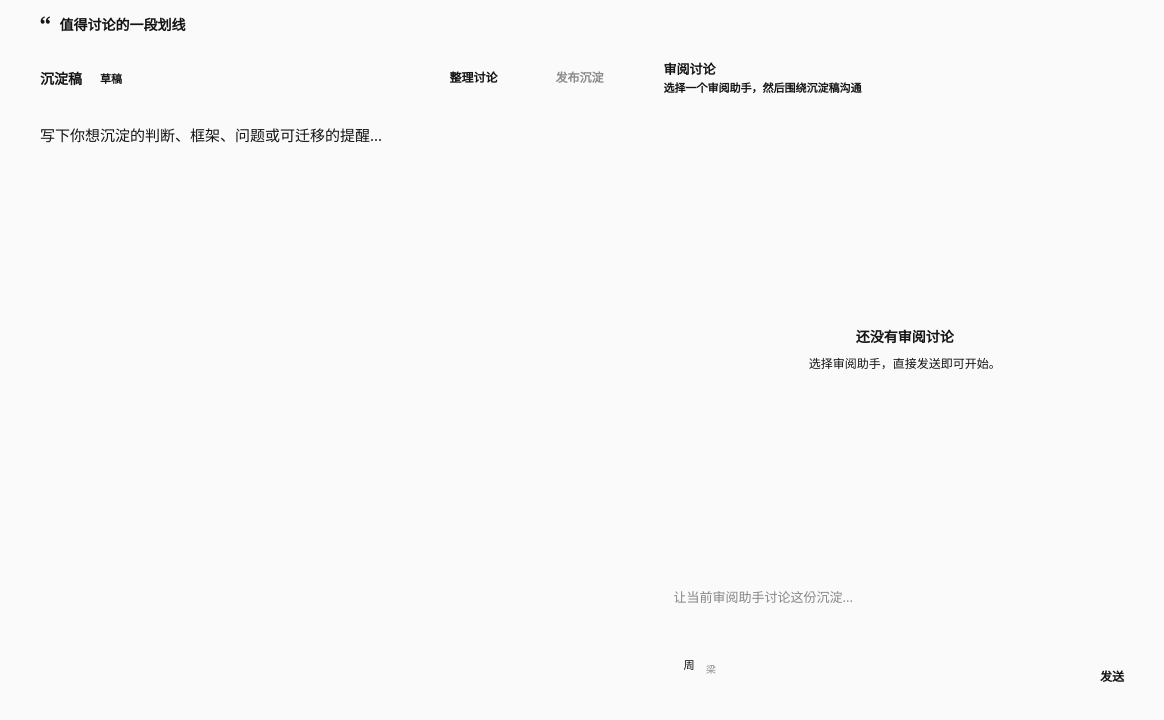
Test: annotation distillation UI › renders and saves streamed structured review items
Check: the text box with placeholder "让当前审阅助手讨论这份沉淀..." is shown, box [674,588,1136,628]
Click the button "发送": (1102, 677) [1068,662,1136,692]
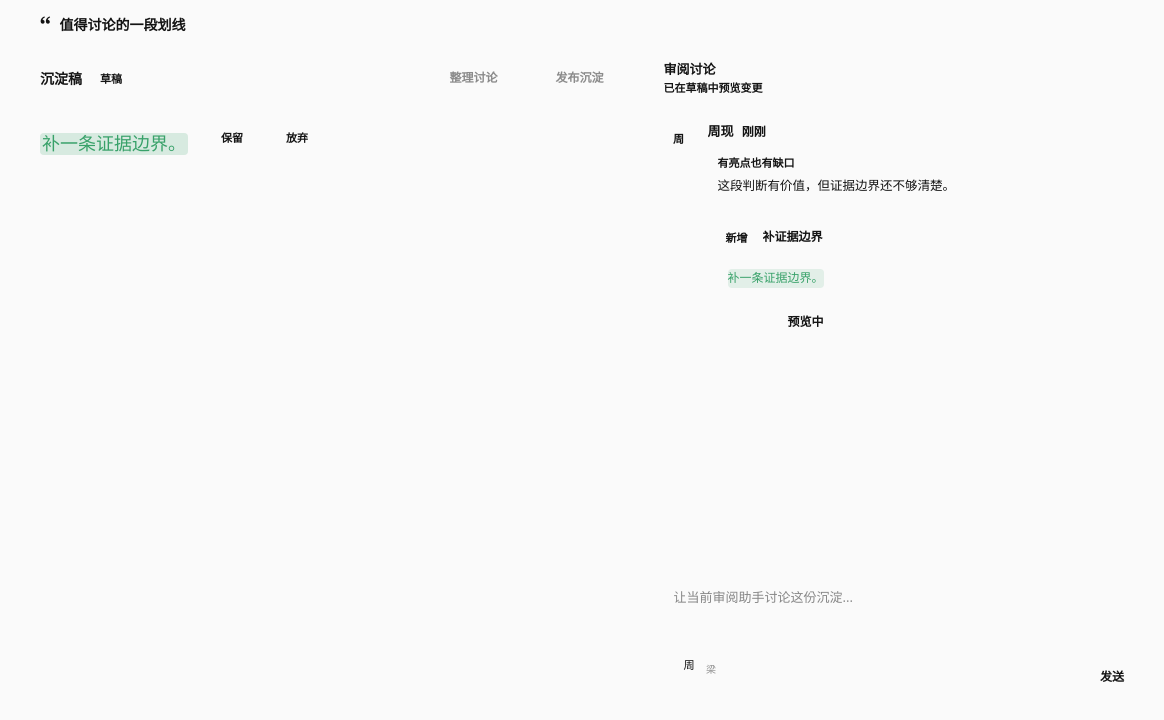
Check: the text "这段判断有价值，但证据边界还不够清楚。" is shown, box [718,177,955,194]
Check: the text "补证据边界" is shown, box [763,228,823,246]
Check: the element named "草稿变更预览" is shown, box [40,122,318,155]
